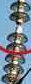gap: (6, 11, 30, 45)
